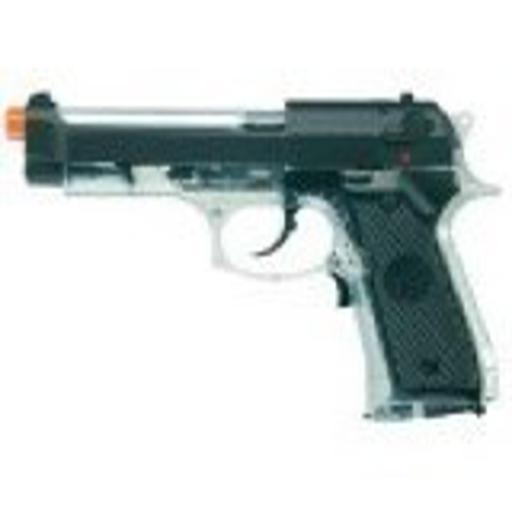Handgun: (2, 88, 501, 421)
